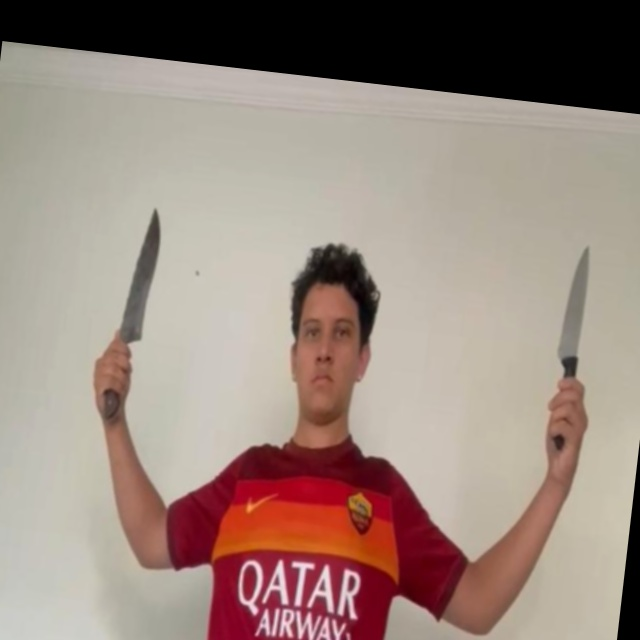Sharp-Object: (556, 243, 592, 361)
